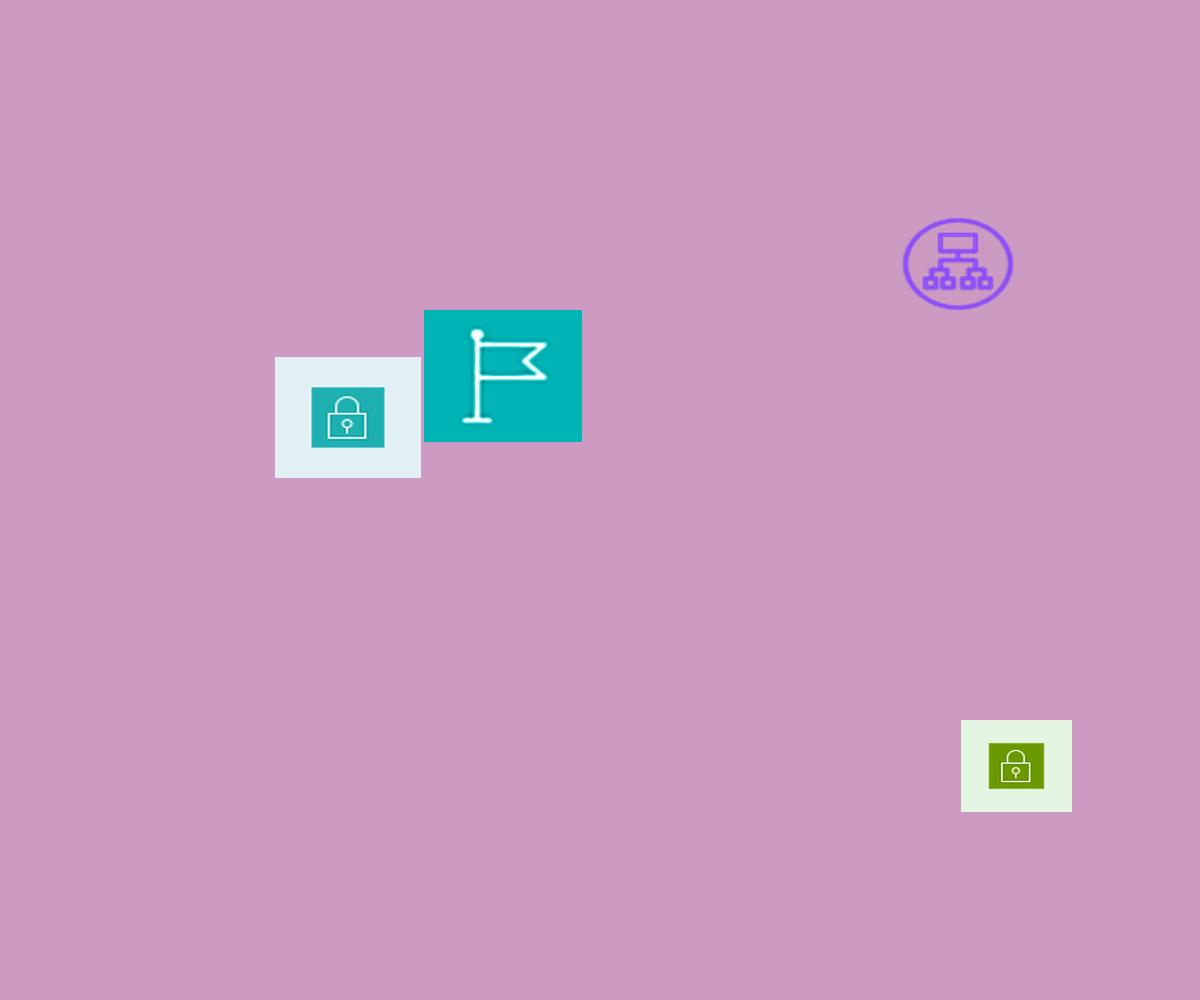AWS-Private-subnet: (275, 357, 421, 478)
AWS-Public-subnet: (961, 720, 1072, 812)
AWS-Region: (424, 310, 582, 442)
AWS-Res_Elastic-Load-Balancing_Application-Load-Balancer: (898, 214, 1018, 314)
